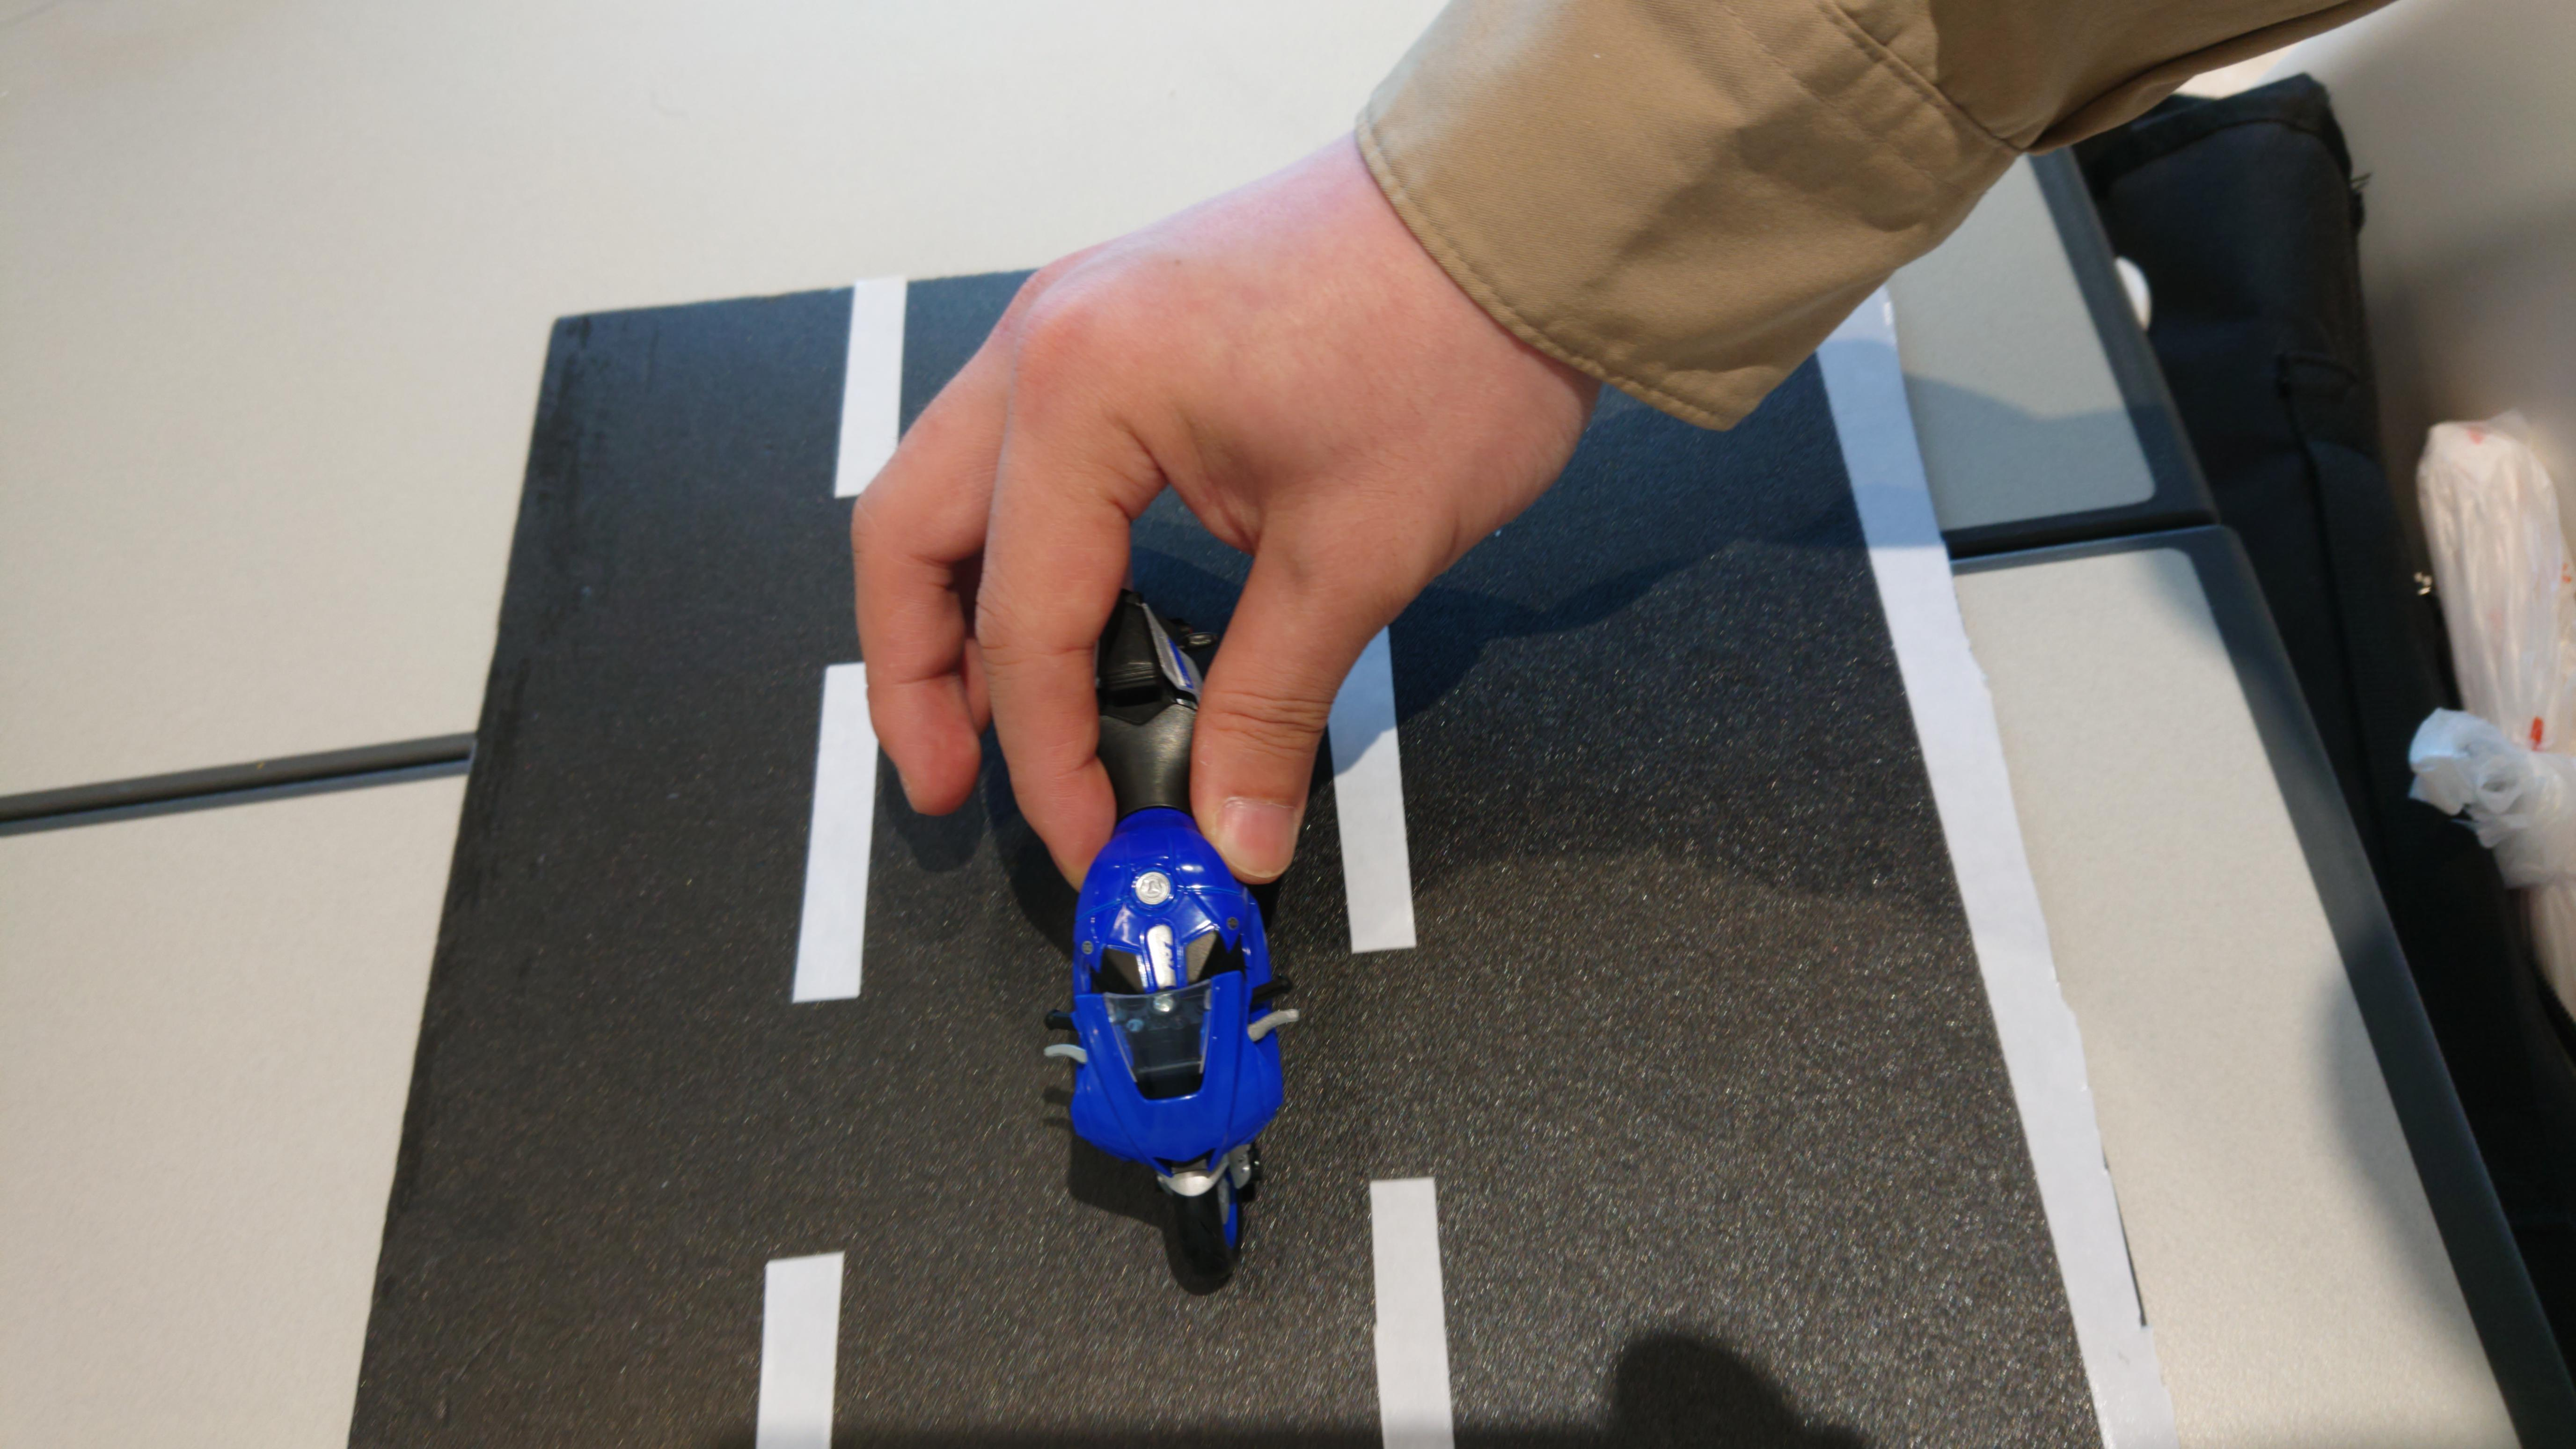Motorcycle: (985, 536, 1332, 1281)
